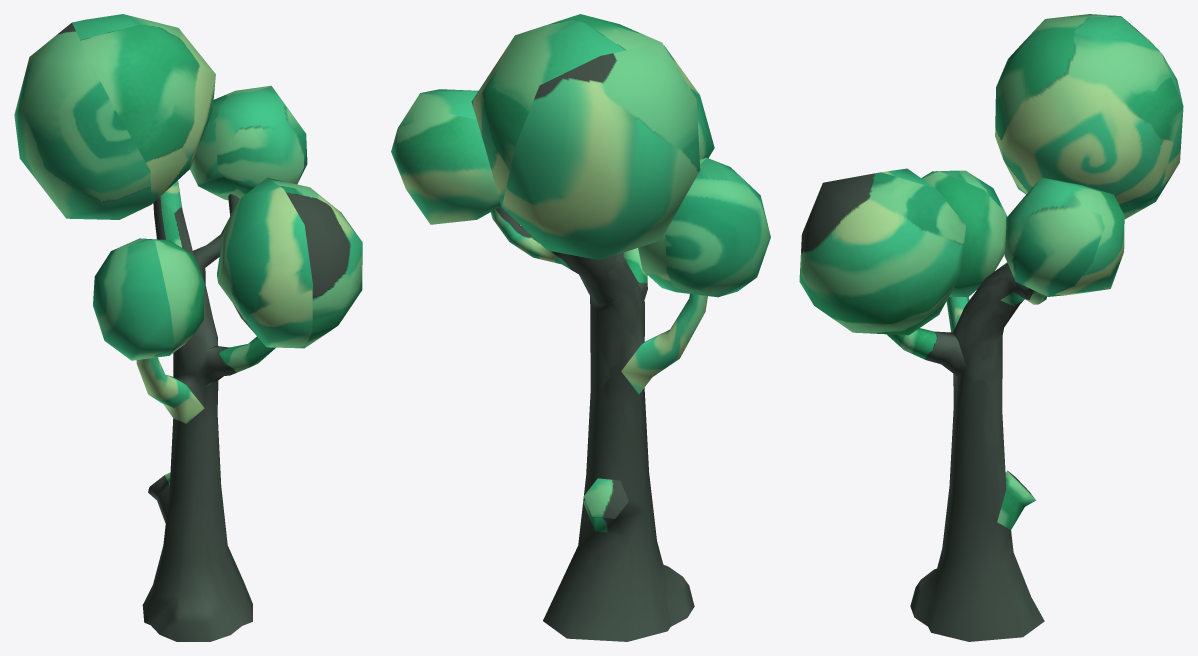
Rendered from tree_A.fbx.
3 views of the same model, side by side, from view 1: azimuth 30°, elevation 25°; view 2: azimuth 150°, elevation 25°; view 3: azimuth 270°, elevation 25° (orthographic). The views are drawn at different scales.
Parts seen in each view (by area): view 1: treeA; view 2: treeA; view 3: treeA.
Part boxes in pixels (box(x1,y1,x2,y2)): treeA: box(14, 14, 362, 641); treeA: box(391, 14, 770, 641); treeA: box(799, 14, 1183, 641).
Size of the model in its own units: 144 by 295 by 178.
